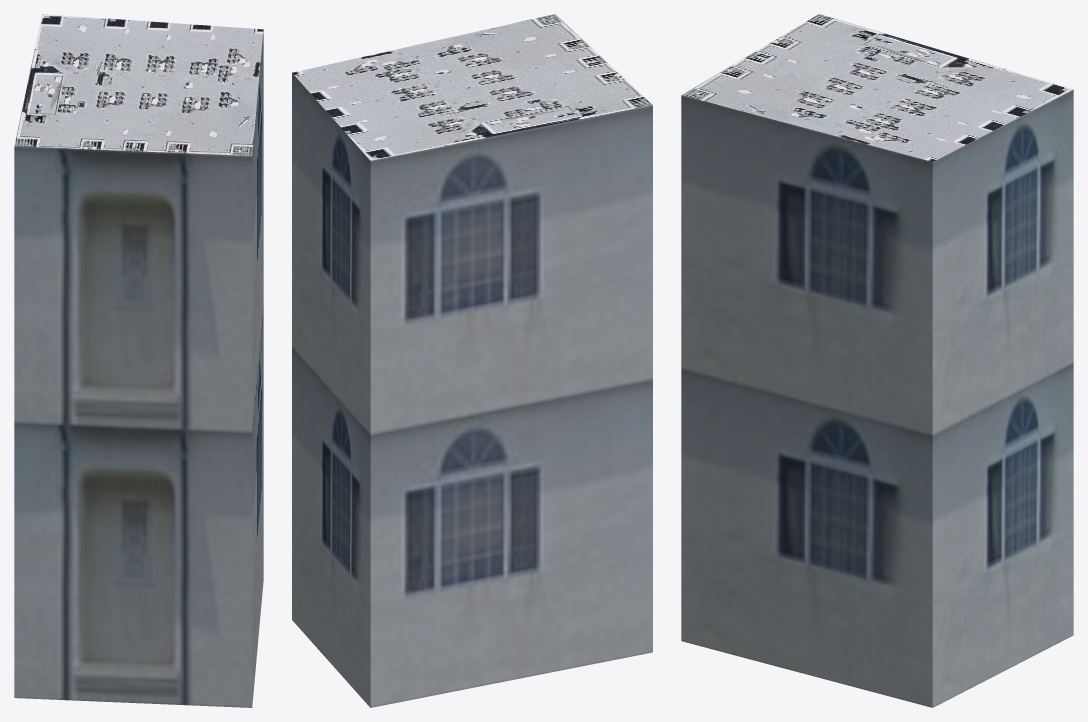
File: ResTex__5188.fbx
3 renders of one model, left to right at view 1: azimuth 30°, elevation 25°; view 2: azimuth 150°, elevation 25°; view 3: azimuth 270°, elevation 25°, orthographic.
Visible parts, largest first — view 1: CityEngineMaterial_17_m, CityEngineMaterial_8_m; view 2: CityEngineMaterial_17_m, CityEngineMaterial_8_m; view 3: CityEngineMaterial_17_m, CityEngineMaterial_8_m.
Part boxes in pixels (bbox=[...]): CityEngineMaterial_17_m: bbox=[14, 30, 263, 707]; CityEngineMaterial_8_m: bbox=[14, 14, 263, 155]; CityEngineMaterial_17_m: bbox=[292, 73, 652, 707]; CityEngineMaterial_8_m: bbox=[292, 14, 652, 160]; CityEngineMaterial_17_m: bbox=[681, 89, 1073, 707]; CityEngineMaterial_8_m: bbox=[681, 14, 1072, 161].
Size of the model in its own units: 3.49 by 6 by 3.91.
2 materials, 2 textured.
